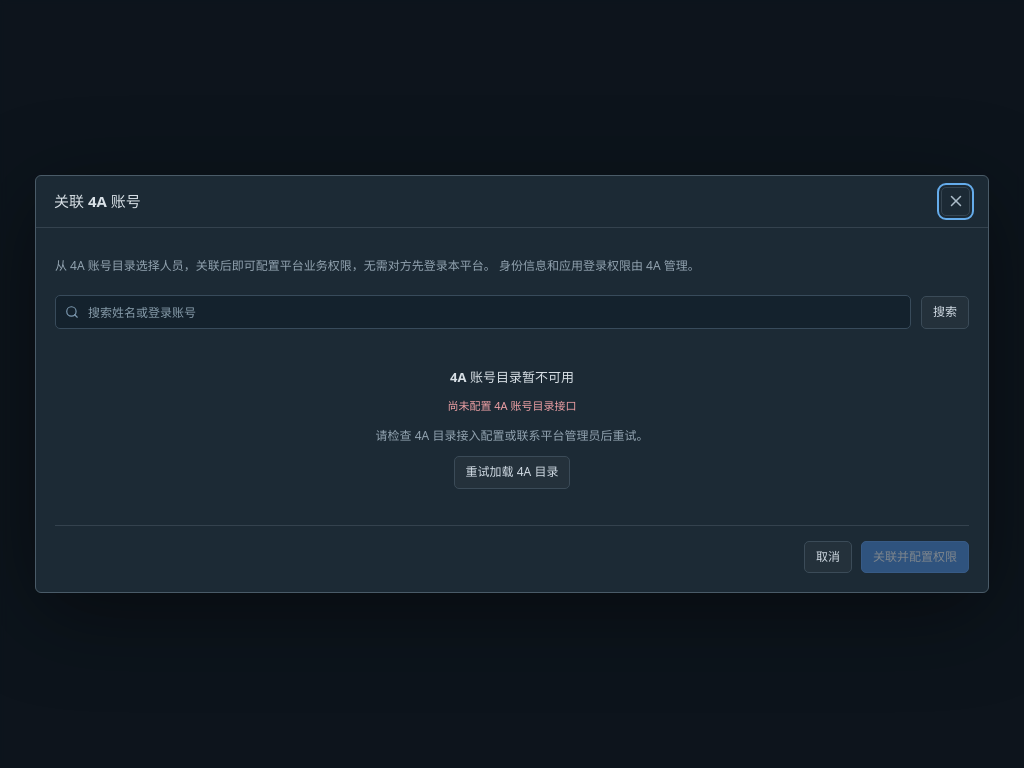
Test: 4A account directory › explains a missing directory configuration and retries without fabricated candidates
expect the text "尚未配置 4A 账号目录接口" is shown: met, box [448, 398, 576, 413]
expect the heading "4A 账号目录暂不可用" is shown: met, box [450, 368, 574, 386]
Click the button "重试加载 4A 目录": (512, 472) [454, 456, 570, 489]
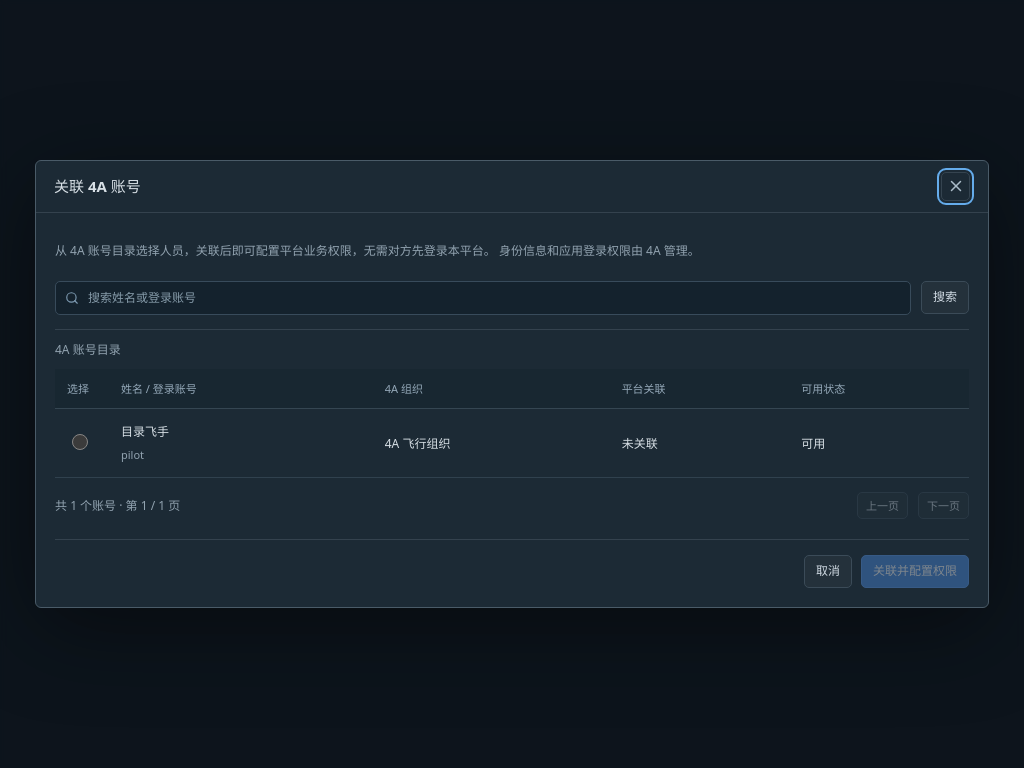
expect the radio button named "选择 目录飞手（pilot）" is shown: met, box [72, 434, 88, 450]
expect the text "尚未配置 4A 账号目录接口" is gone: met
